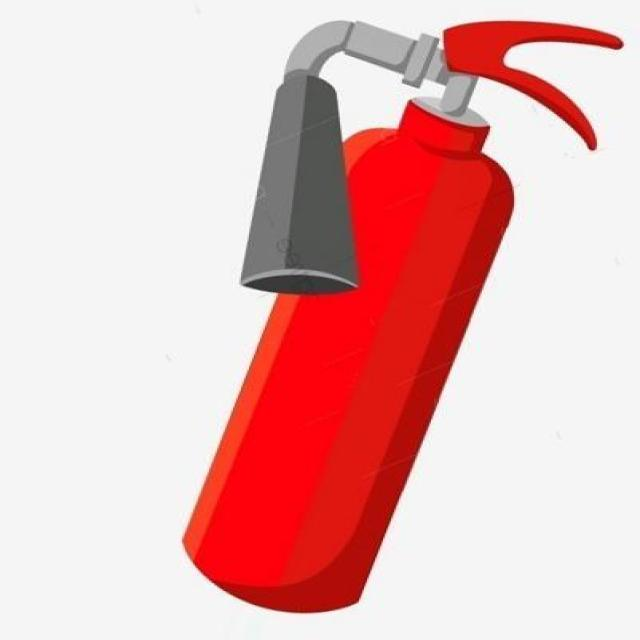fire_extinguisher: (175, 12, 628, 615)
